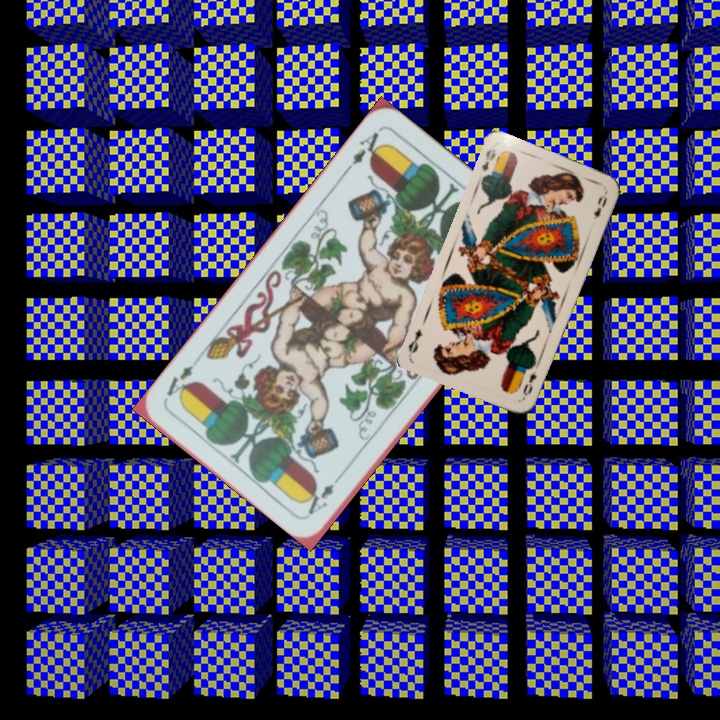EA: (340, 127, 387, 176), (304, 468, 347, 518)
EO: (519, 367, 539, 398), (477, 145, 498, 173)
